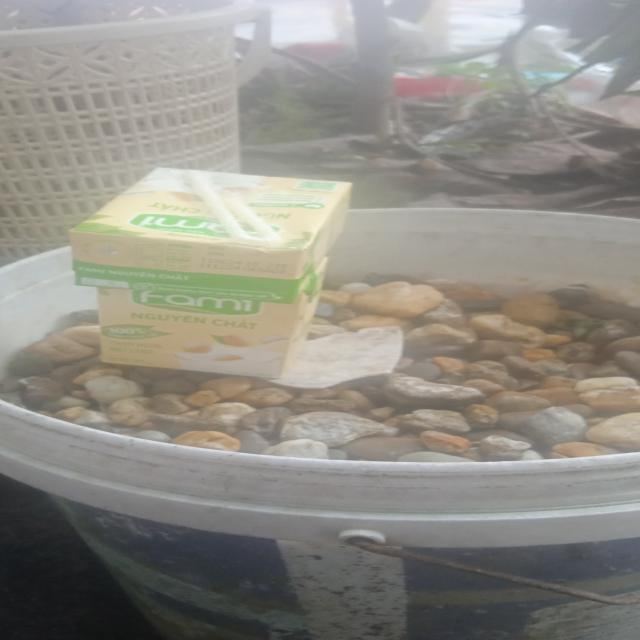Fami: (72, 169, 355, 304), (99, 259, 329, 380)
